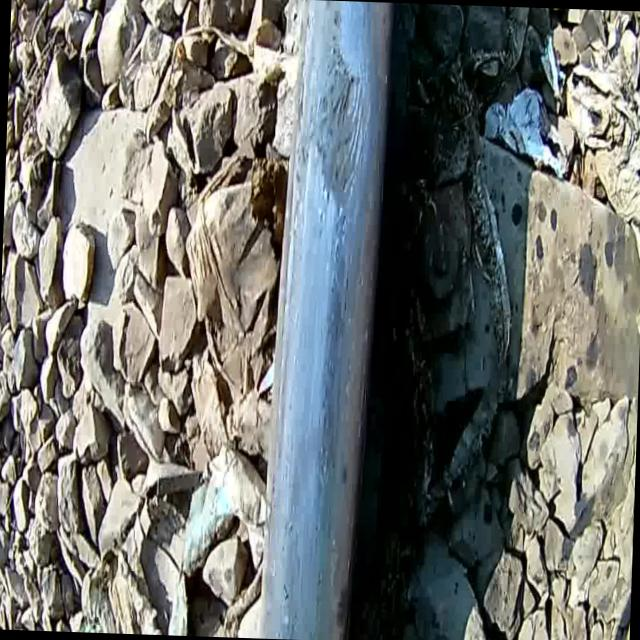Squats: (275, 24, 404, 233)
